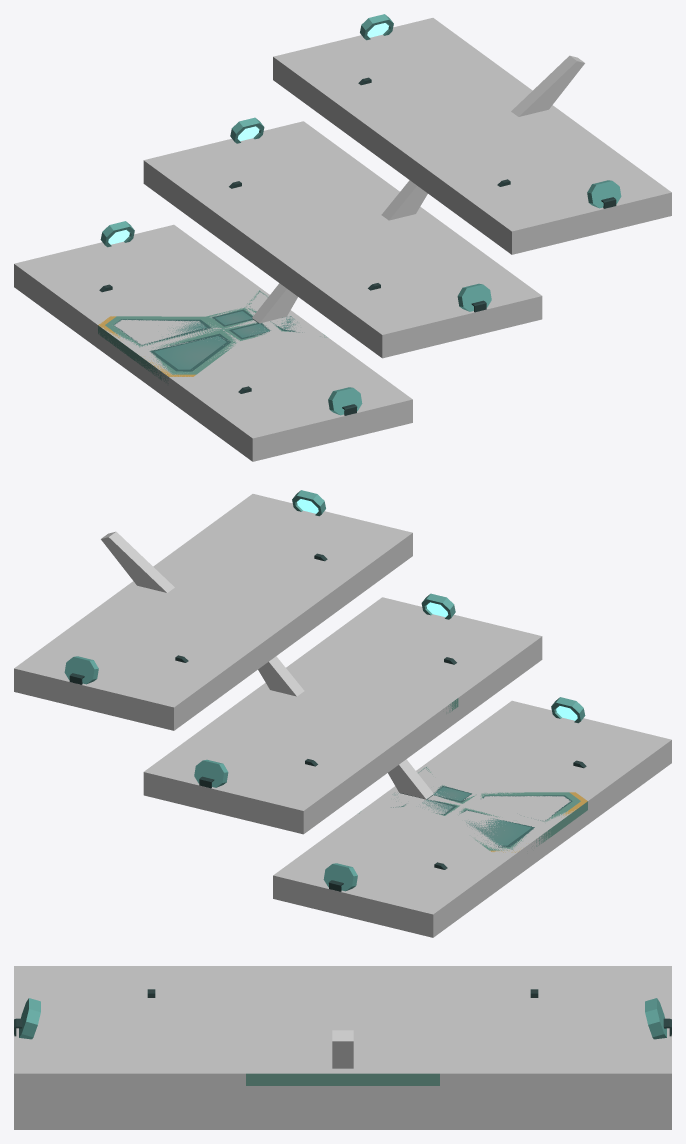
File: SM_Stair_02.fbx
3 renders of one model, top to bottom at view 1: azimuth 30°, elevation 25°; view 2: azimuth 150°, elevation 25°; view 3: azimuth 270°, elevation 25°, orthographic. The views are drawn at different scales.
Visible parts, largest first — view 1: SM_Stair_02_ConvexHulls, SM_Stair_02; view 2: SM_Stair_02_ConvexHulls, SM_Stair_02; view 3: SM_Stair_02_ConvexHulls, SM_Stair_02.
Boxes of the visible parts, <box> form: SM_Stair_02_ConvexHulls: <box>14,18,671,461</box>; SM_Stair_02: <box>98,14,621,415</box>; SM_Stair_02_ConvexHulls: <box>14,494,671,937</box>; SM_Stair_02: <box>64,490,587,891</box>; SM_Stair_02_ConvexHulls: <box>14,966,671,1129</box>; SM_Stair_02: <box>14,989,671,1085</box>.
Bounding box in the file's own units: 228 × 211 × 102.
Materials: 2 (1 with a texture image).
